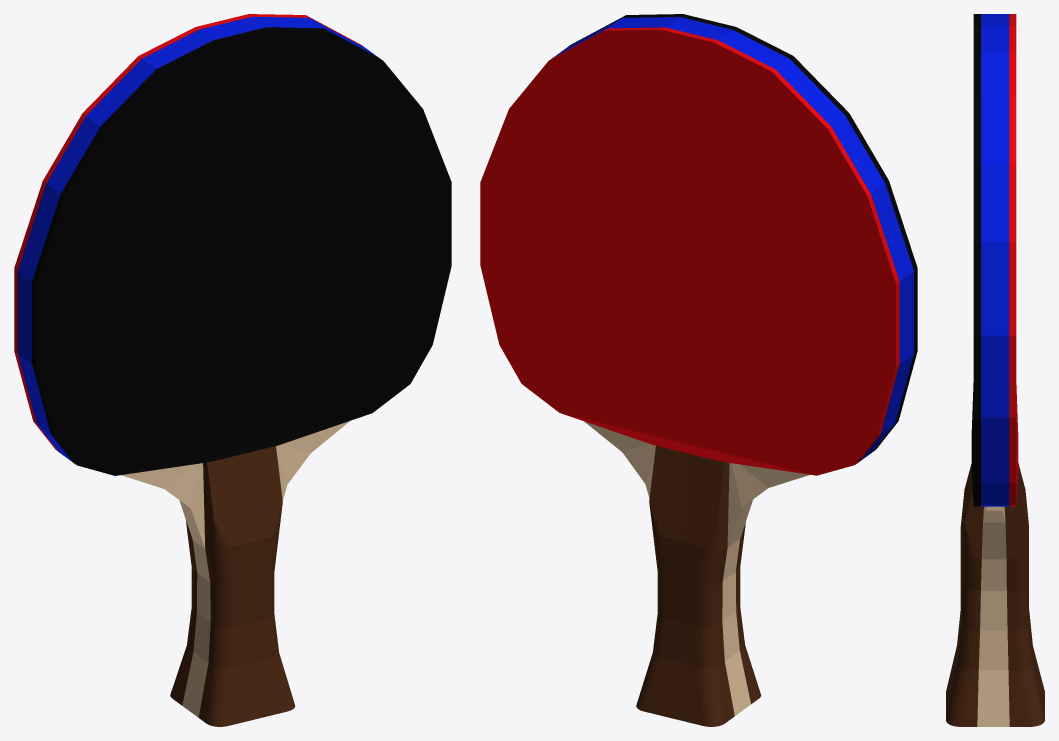
The model's file is ping_pong_paddle.glb.
The picture shows the model from 3 angles, left to right: view 1: azimuth 30°, elevation 25°; view 2: azimuth 150°, elevation 25°; view 3: azimuth 270°, elevation 25°; orthographic projection.
Visible parts, largest first — view 1: Cube; view 2: Cube; view 3: Cube.
Part boxes in pixels (x1,y1,x2,y2): Cube: [14, 14, 451, 726]; Cube: [480, 14, 917, 726]; Cube: [946, 14, 1044, 726].
Bounding box in the file's own units: 12.07 × 18.64 × 2.51.
